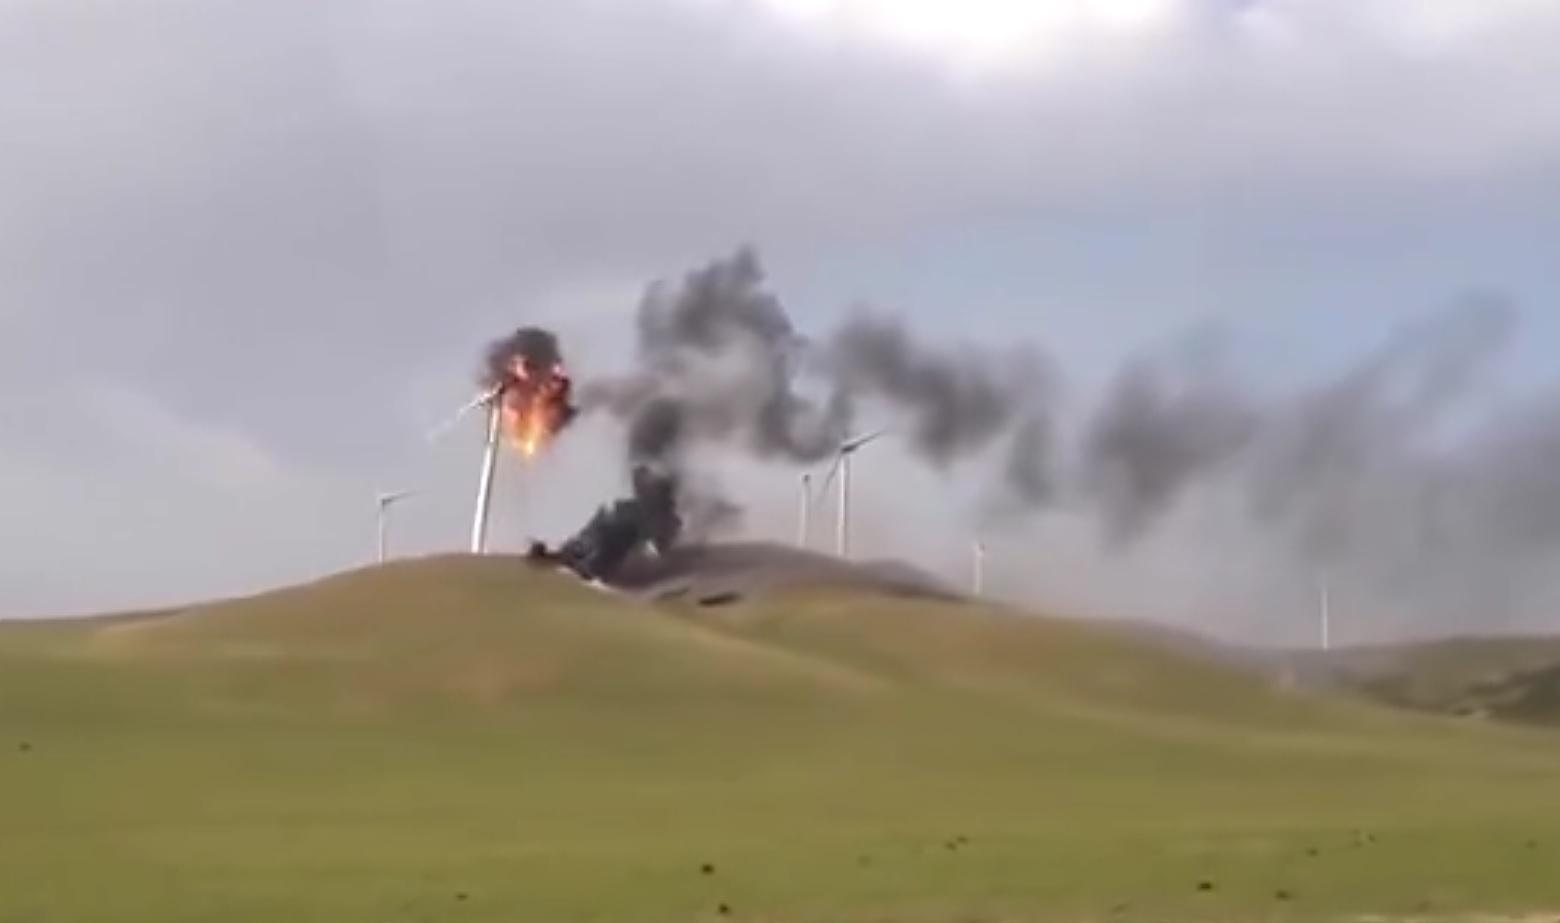fire: (490, 349, 567, 454)
